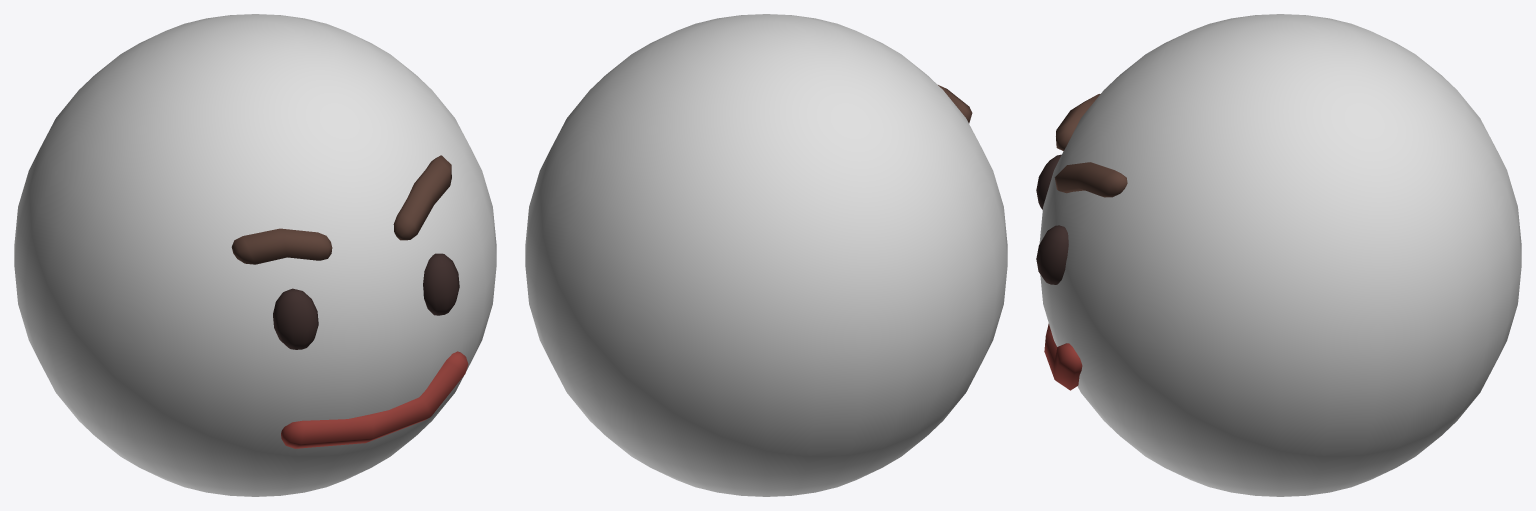
File: face_smirk.glb
3 views of the same model, side by side, from view 1: azimuth 30°, elevation 25°; view 2: azimuth 150°, elevation 25°; view 3: azimuth 270°, elevation 25° (orthographic).
Parts seen in each view (by area): view 1: face_smirk; view 2: face_smirk; view 3: face_smirk.
Part boxes in pixels (x1=…): face_smirk: x1=14, y1=14, x2=496, y2=496; face_smirk: x1=525, y1=14, x2=1007, y2=496; face_smirk: x1=1036, y1=14, x2=1521, y2=496.
Bounding box in the file's own units: 1 × 1 × 1.
